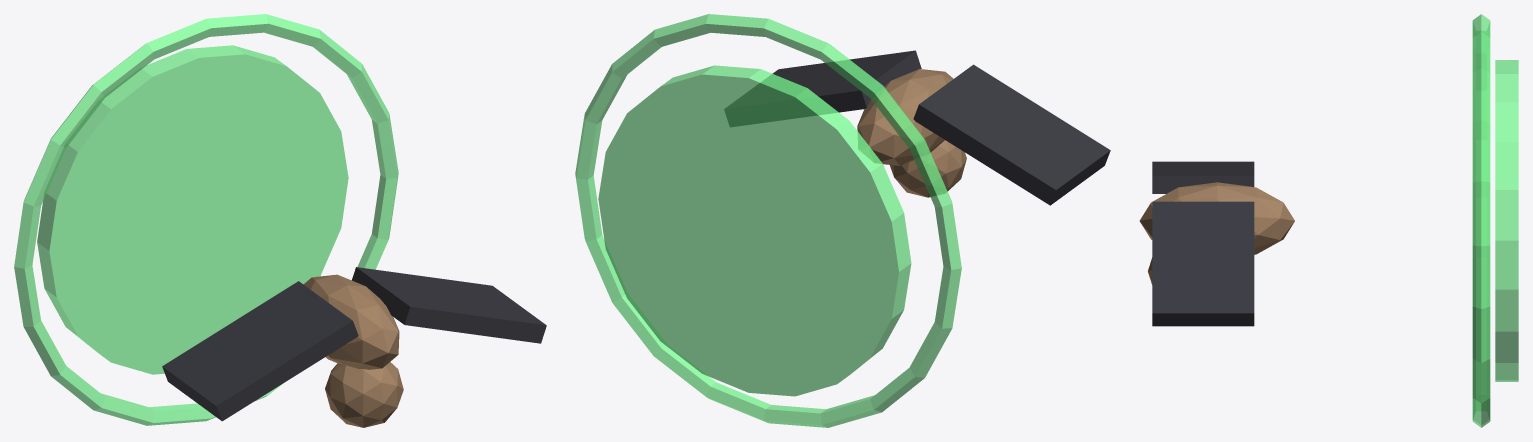
Rendered from 12_owl_perch_critter.glb.
3 views of the same model, side by side, from view 1: azimuth 30°, elevation 25°; view 2: azimuth 150°, elevation 25°; view 3: azimuth 270°, elevation 25° (orthographic). The views are drawn at different scales.
Parts seen in each view (by area): view 1: base_disc, base_ring, wing_l, wing_r, body, head; view 2: base_disc, base_ring, wing_l, wing_r, body, head; view 3: wing_r, base_ring, base_disc, body, wing_l.
Boxes of the visible parts, x1,y1,x2,y2 form: base_disc: [37, 45, 348, 374]; base_ring: [14, 14, 398, 425]; wing_l: [162, 281, 358, 421]; wing_r: [352, 267, 546, 343]; body: [303, 274, 399, 369]; head: [325, 362, 403, 427]; base_disc: [598, 65, 911, 396]; base_ring: [575, 14, 961, 427]; wing_l: [913, 64, 1110, 205]; wing_r: [724, 50, 921, 126]; body: [857, 69, 953, 165]; head: [890, 140, 966, 197]; wing_r: [1152, 201, 1254, 326]; base_ring: [1472, 14, 1490, 427]; base_disc: [1495, 60, 1518, 381]; body: [1139, 182, 1294, 254]; wing_l: [1152, 161, 1254, 193].
Bounding box in the file's own units: 0.9 × 0.9 × 0.818.
